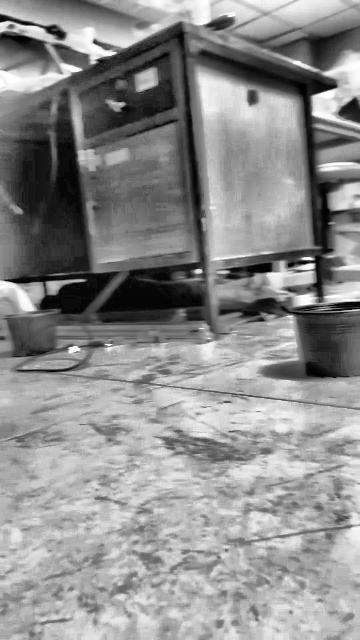pot: (288, 302, 360, 377), (5, 310, 57, 357)
